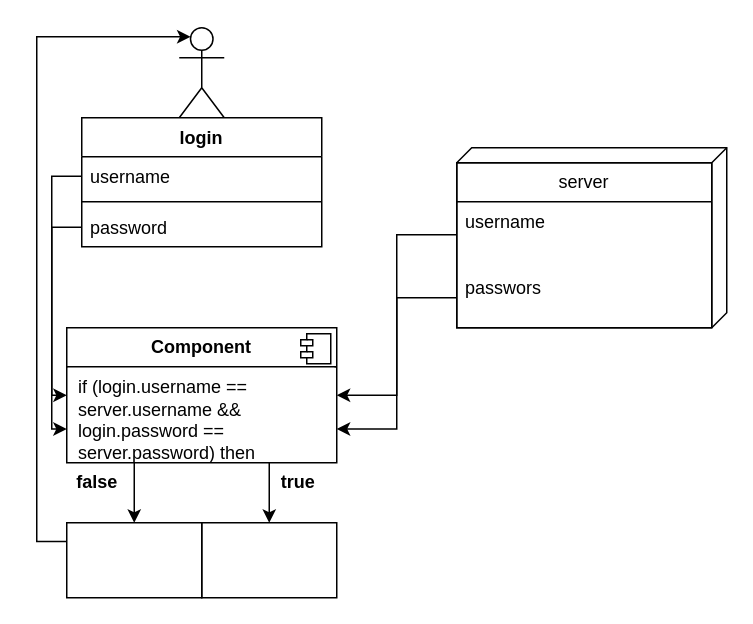
Some shapes in this 753 by 624 pixel diagram are drawn without their labels. Here are the shapes that lost their labels. From the top down, the centre of each, then its label:
point 133,559: return "incorrect username or password";
point 268,559: succes login
